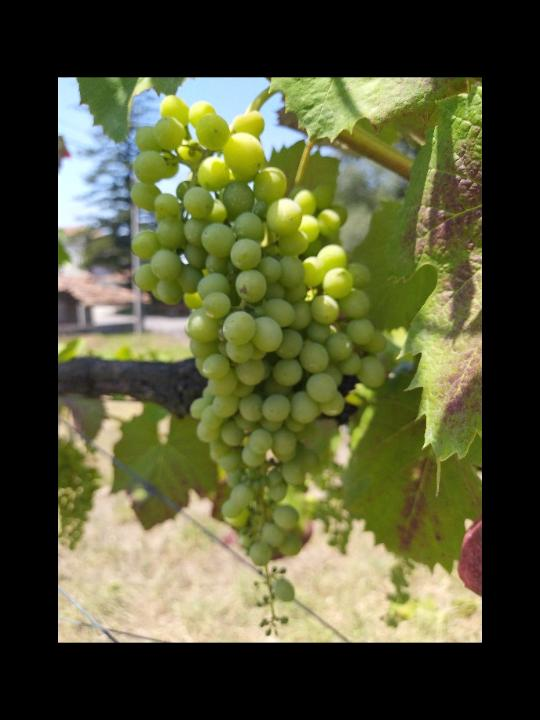grape: (128, 93, 389, 640)
